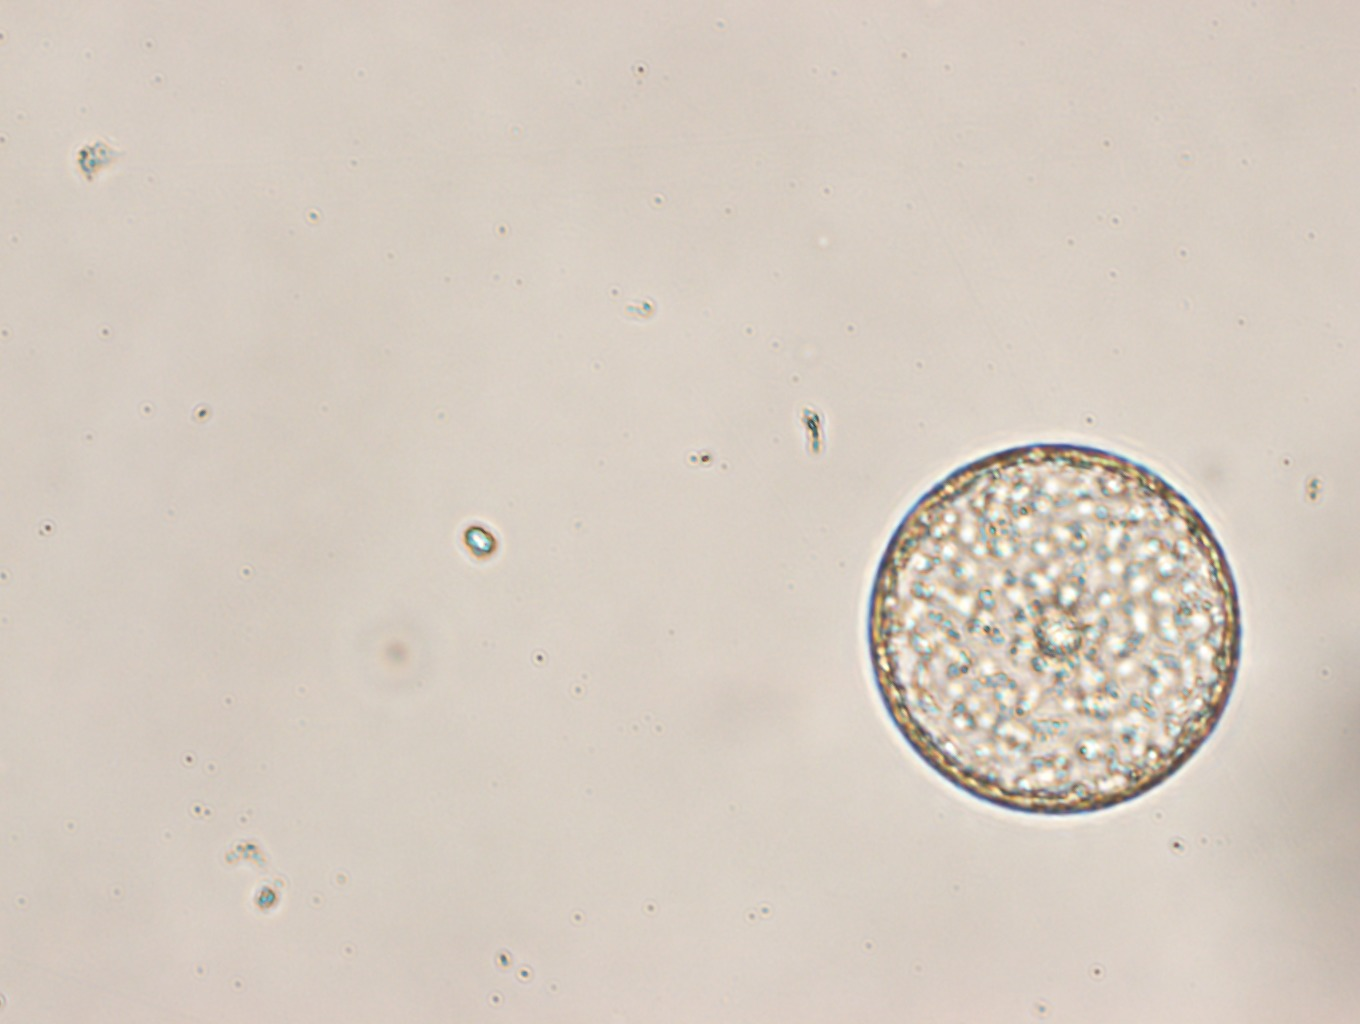coscinodiscus: (865, 440, 1242, 817)
